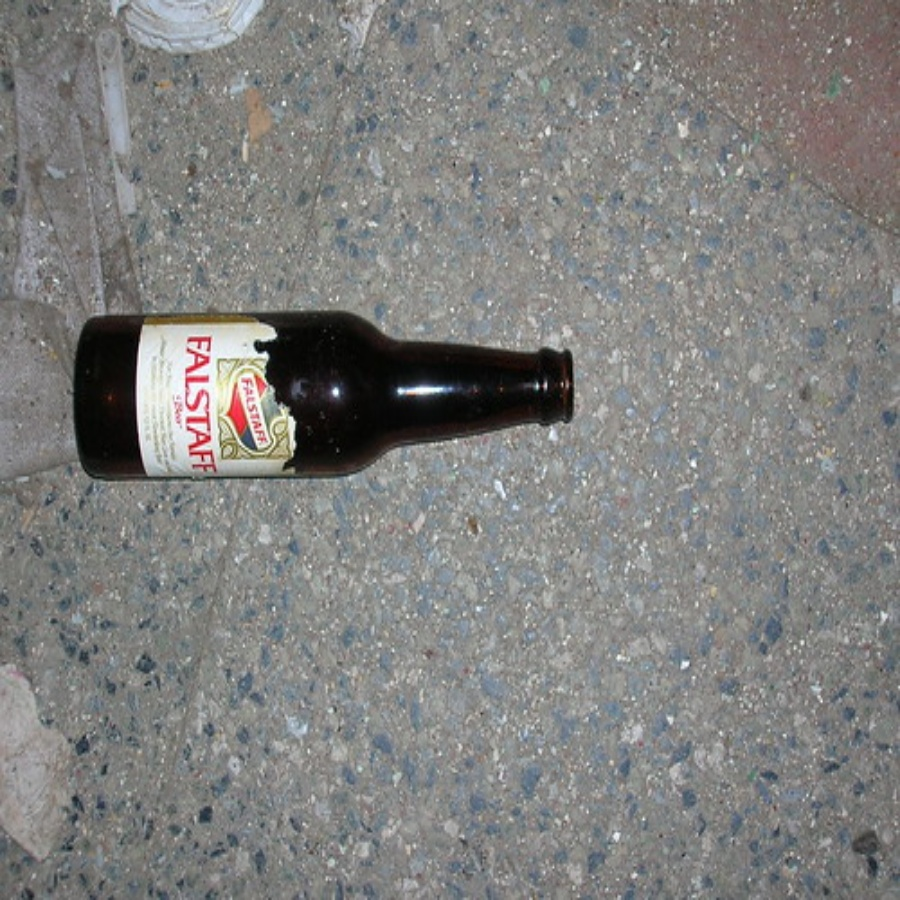beer: (68, 306, 583, 473)
